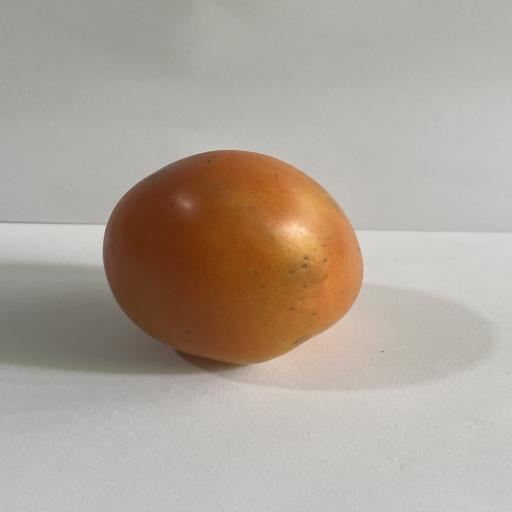unripe: (103, 150, 363, 364)
